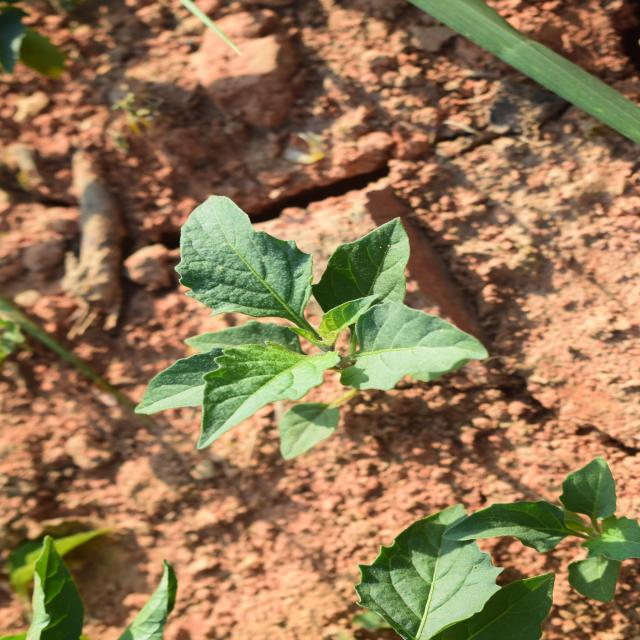Black_nightshade: (188, 133, 453, 472)
